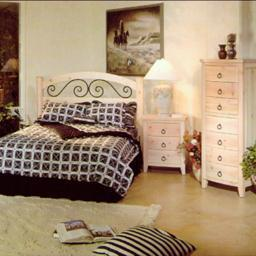Armario: (202, 56, 250, 198)
Cama: (9, 75, 136, 195)
Otro Obstaculo: (91, 210, 194, 255), (55, 212, 113, 246)
